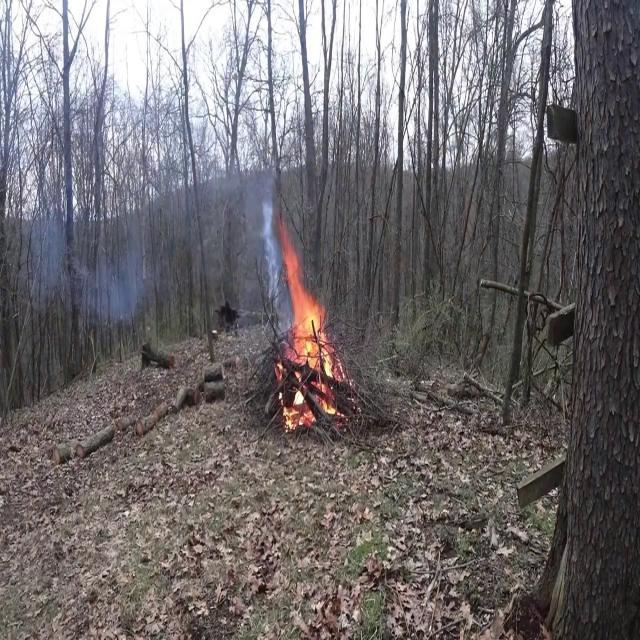Fire: (272, 227, 342, 428)
